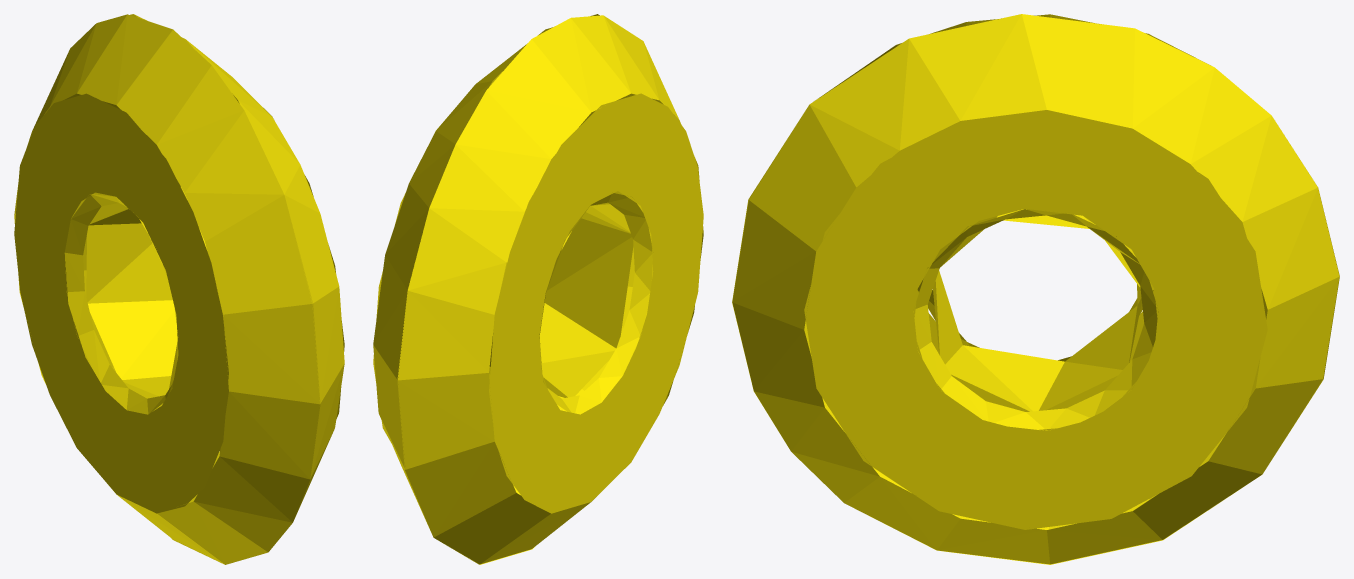
File: Probe.dae
The picture shows the model from 3 angles, left to right: view 1: azimuth 30°, elevation 25°; view 2: azimuth 150°, elevation 25°; view 3: azimuth 270°, elevation 25°; orthographic projection. The views are drawn at different scales.
Visible parts, largest first — view 1: Body1; view 2: Body1; view 3: Body1.
Boxes of the visible parts, box(x1,y1,x2,y2) form: Body1: box(14, 14, 344, 564); Body1: box(373, 14, 703, 564); Body1: box(732, 14, 1339, 564).
Size of the model in its own units: 0.0101 by 0.0421 by 0.0421.
